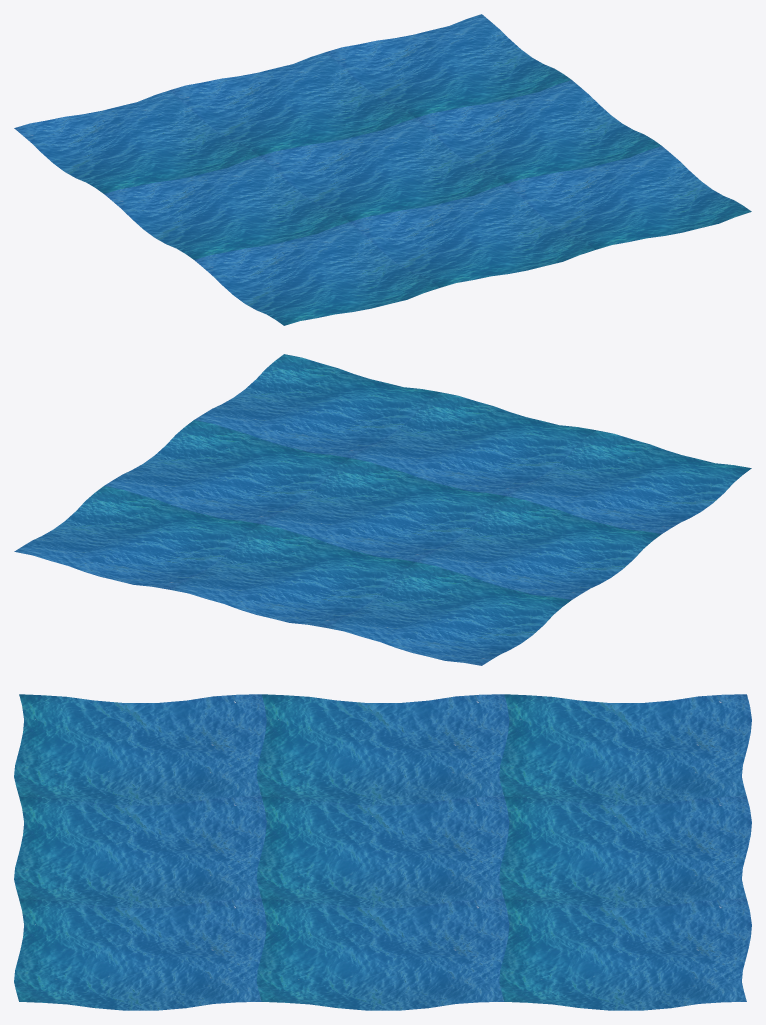
Rendered from ocean_000244.obj.
3 views of the same model, one above another, from view 1: azimuth 30°, elevation 25°; view 2: azimuth 150°, elevation 25°; view 3: azimuth 270°, elevation 25° (orthographic). The views are drawn at different scales.
Visible parts, largest first — view 1: Ocean_Plan.001; view 2: Ocean_Plan.001; view 3: Ocean_Plan.001.
Boxes of the visible parts, x1=… form: Ocean_Plan.001: x1=14, y1=14, x2=751, y2=325; Ocean_Plan.001: x1=14, y1=354, x2=751, y2=665; Ocean_Plan.001: x1=14, y1=694, x2=751, y2=1010.
Size of the model in its own units: 109150 by 2286 by 110487.
1 material, 1 textured.
